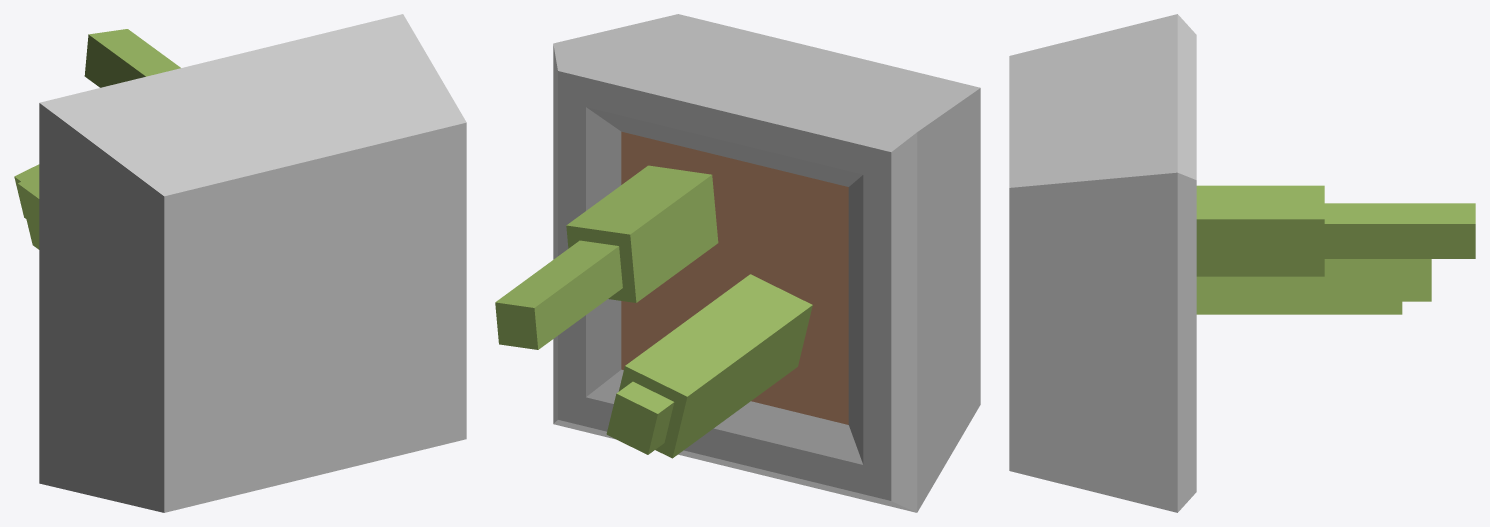
File: Deco.glb
3 views of the same model, side by side, from view 1: azimuth 30°, elevation 25°; view 2: azimuth 150°, elevation 25°; view 3: azimuth 270°, elevation 25° (orthographic). The views are drawn at different scales.
Visible parts, largest first — view 1: Deco; view 2: Deco; view 3: Deco.
Boxes of the visible parts, x1,y1,x2,y2 form: Deco: [14, 14, 466, 512]; Deco: [495, 14, 980, 512]; Deco: [1009, 14, 1475, 512].
Bounding box in the file's own units: 0.0798 × 0.0798 × 0.0992.
1 material, 1 textured.
